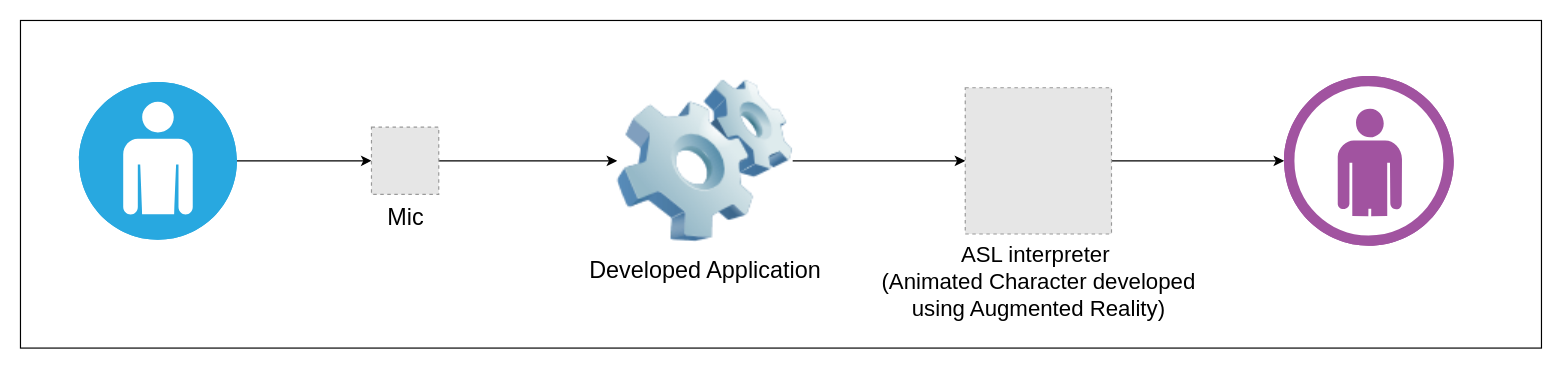
Some shapes in this 1562 by 369 pixel diagram are drawn without their labels. Grey dashed boxes stand in for pictures. Each missing label, with the box of its shape:
Hearing Impaired User: (1283, 75, 1454, 246)
Normal User: (78, 81, 237, 240)
